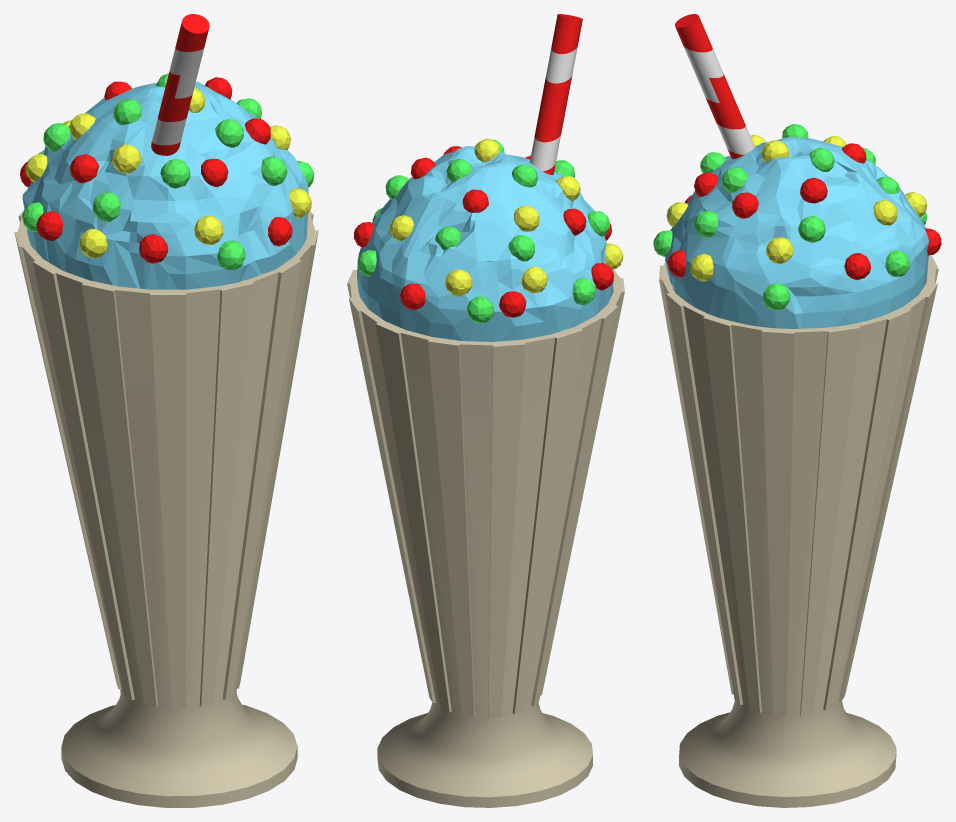
File: milkshake.glb
The picture shows the model from 3 angles, left to right: view 1: azimuth 30°, elevation 25°; view 2: azimuth 150°, elevation 25°; view 3: azimuth 270°, elevation 25°; orthographic projection. The views are drawn at different scales.
Parts seen in each view (by area): view 1: Cylinder006, Cylinder007, ar-normalize, Cylinder008; view 2: Cylinder006, Cylinder007, ar-normalize, Cylinder008; view 3: Cylinder006, Cylinder007, ar-normalize, Cylinder008.
Boxes of the visible parts, box(x1,y1,x2,y2) form: Cylinder006: box(14, 210, 318, 807); Cylinder007: box(22, 81, 308, 289); ar-normalize: box(20, 73, 314, 269); Cylinder008: box(151, 14, 209, 155); Cylinder006: box(347, 269, 624, 807); Cylinder007: box(357, 146, 613, 341); ar-normalize: box(354, 138, 623, 323); Cylinder008: box(529, 14, 582, 174); Cylinder006: box(659, 255, 938, 807); Cylinder007: box(665, 137, 928, 328); ar-normalize: box(653, 124, 941, 310); Cylinder008: box(675, 14, 754, 159).
Size of the model in its own units: 0.0779 by 0.22 by 0.0789.
